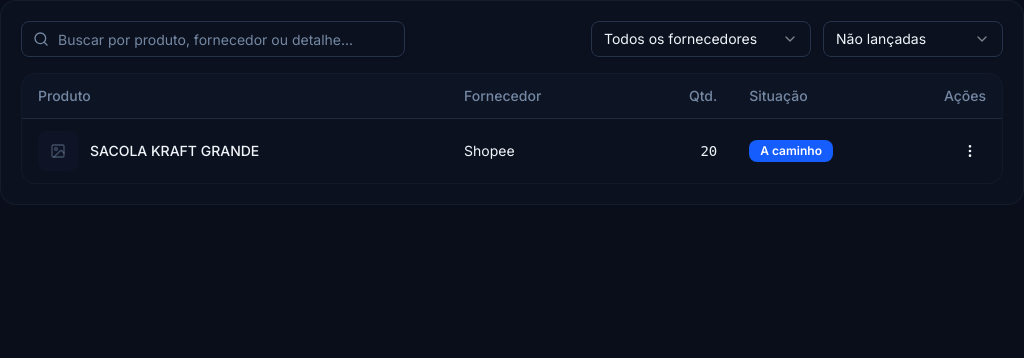
Test: PurchasesTable — Cancelar recebimento (23/10/2026) › compra ainda não lançada não tem recebimento para cancelar
The width and height of the screenshot is (1024, 358).
Press the mouse on the button named "Opções da compra 7" at (970, 151), box x1=954 y1=135 x2=986 y2=167
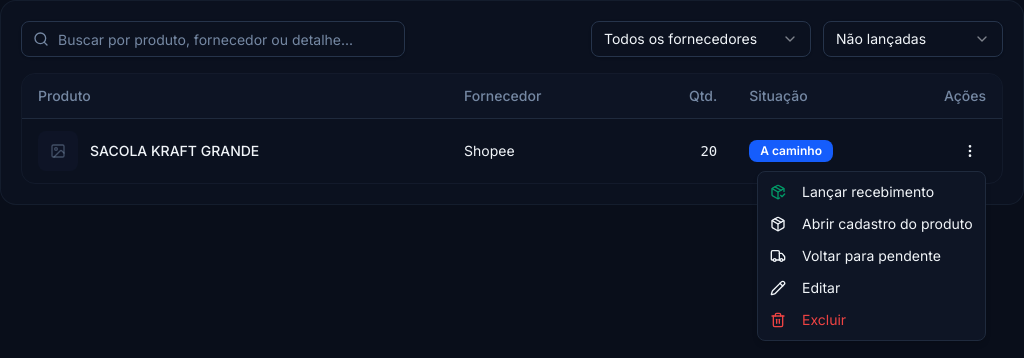
Expected: the menu item "Lançar recebimento" is shown, x1=770 y1=183 x2=934 y2=200
